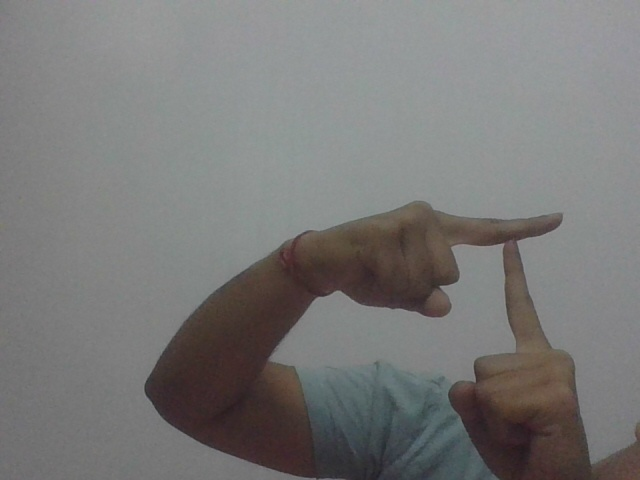T: (332, 201, 598, 436)
